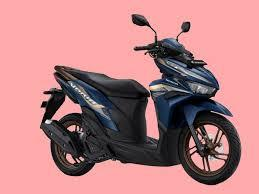motorcycle: (39, 9, 244, 188)
